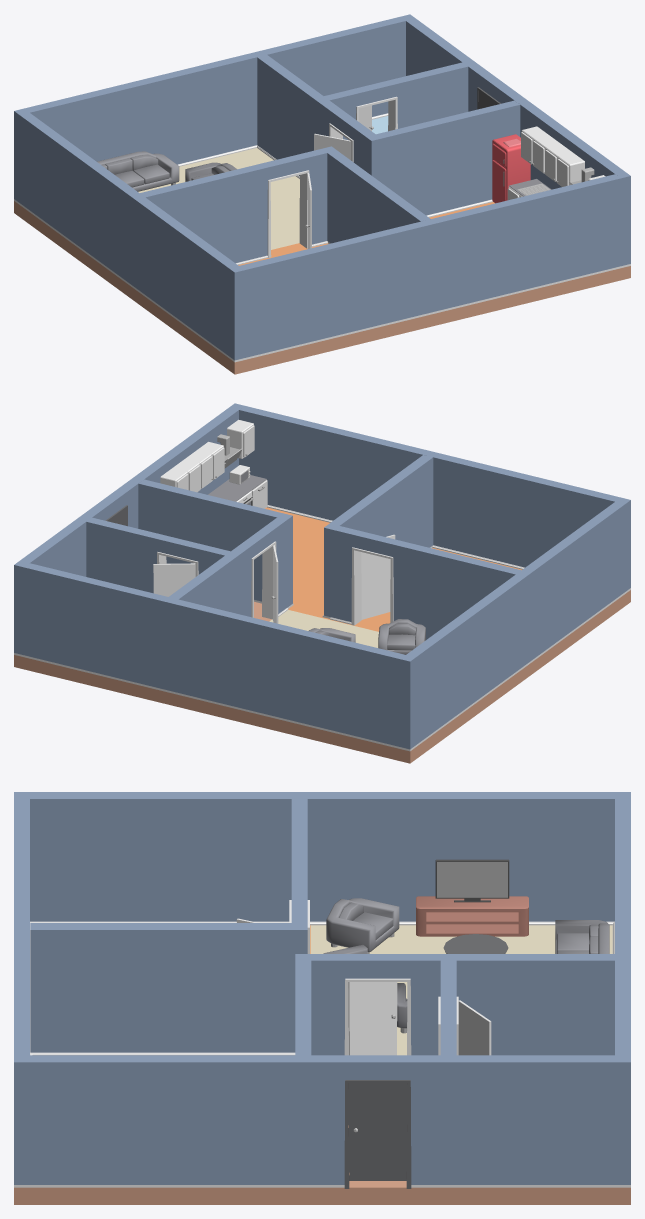
The model's file is house_simple.fbx.
3 views of the same model, one above another, from view 1: azimuth 30°, elevation 25°; view 2: azimuth 150°, elevation 25°; view 3: azimuth 270°, elevation 25° (orthographic). The views are drawn at different scales.
Parts seen in each view (by area): view 1: Walls, Ground, Kitchen, WallsTile, Sofa2, Fridge, Wall_027__2_, Sofa, Door_002; view 2: Walls, Ground, Kitchen, WallsTile, Door_002__2_, Armchair2, Wall_027__2_, Door_001, Wall_027; view 3: Walls, Ground, Door_003, Tv_Unit, WallsTile, Door_002, Armchair, Television, Sofa2, Door_001, Wall_028, Coffee_Table (+1 smaller).
Boxes of the visible parts, <box> form: Walls: <box>14,14,630,360</box>; Ground: <box>14,116,630,374</box>; Kitchen: <box>507,126,605,200</box>; WallsTile: <box>14,113,630,362</box>; Sofa2: <box>97,151,179,191</box>; Fridge: <box>492,134,530,203</box>; Wall_027__2_: <box>267,170,309,257</box>; Sofa: <box>185,162,236,181</box>; Door_002: <box>314,133,351,160</box>; Walls: <box>14,403,630,749</box>; Ground: <box>14,507,630,763</box>; Kitchen: <box>160,419,267,508</box>; WallsTile: <box>14,505,630,751</box>; Door_002__2_: <box>361,534,395,619</box>; Armchair2: <box>378,619,425,654</box>; Wall_027__2_: <box>351,547,393,625</box>; Door_001: <box>153,563,195,596</box>; Wall_027: <box>251,541,276,619</box>; Walls: <box>14,792,630,1184</box>; Ground: <box>14,925,630,1204</box>; Door_003: <box>348,1083,407,1180</box>; Tv_Unit: <box>416,896,528,936</box>; WallsTile: <box>14,921,630,1187</box>; Door_002: <box>348,982,397,1055</box>; Armchair: <box>326,898,399,953</box>; Television: <box>435,859,509,902</box>; Sofa2: <box>555,920,609,953</box>; Door_001: <box>458,1000,491,1055</box>; Wall_028: <box>344,1080,411,1188</box>; Coffee_Table: <box>443,934,508,953</box>.
Size of the model in its own units: 1161 by 1118 by 285.
